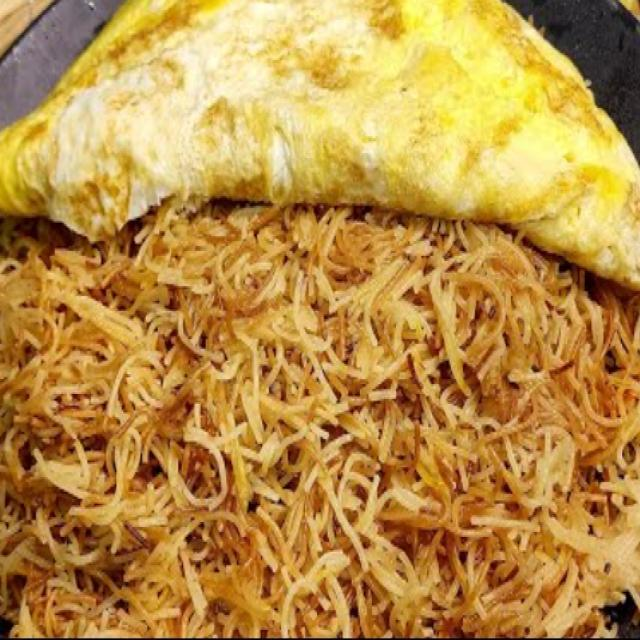Balaleet: (5, 2, 640, 626)
